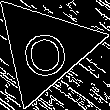O_N: (18, 19, 72, 78)
